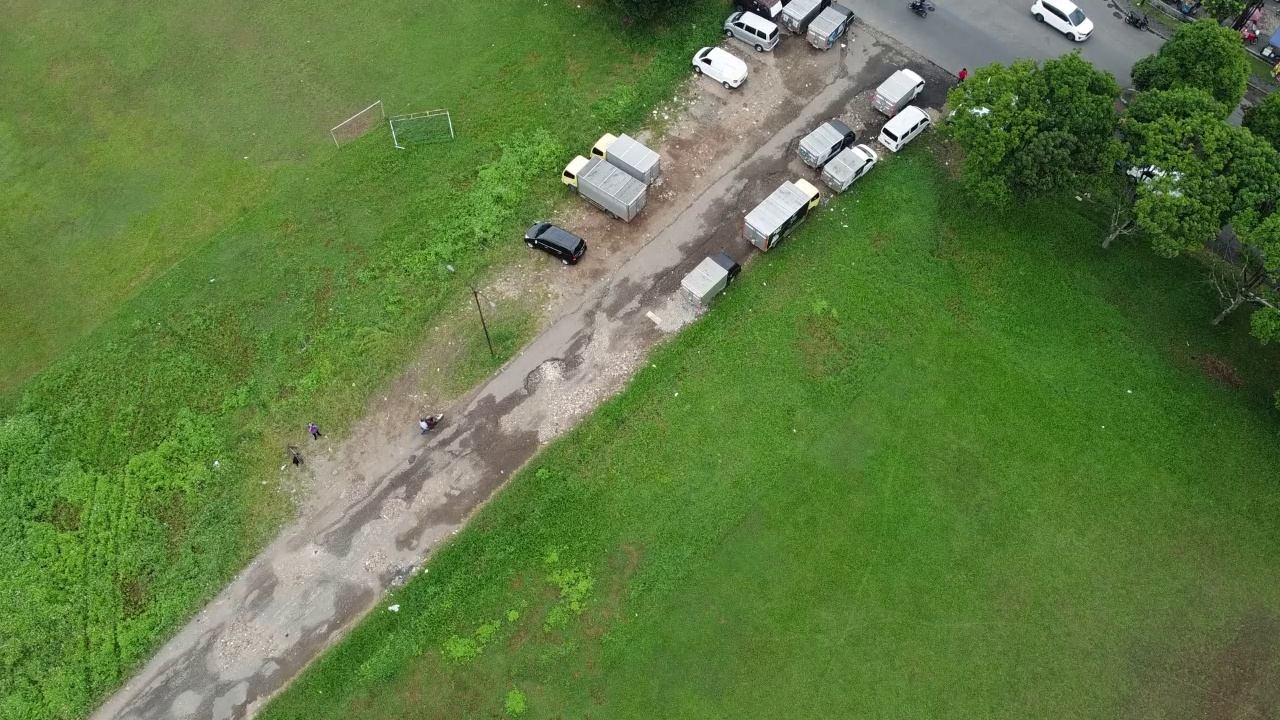mobil: (685, 40, 751, 99), (520, 217, 592, 270), (717, 8, 791, 50), (1028, 1, 1101, 43), (877, 106, 942, 153)
